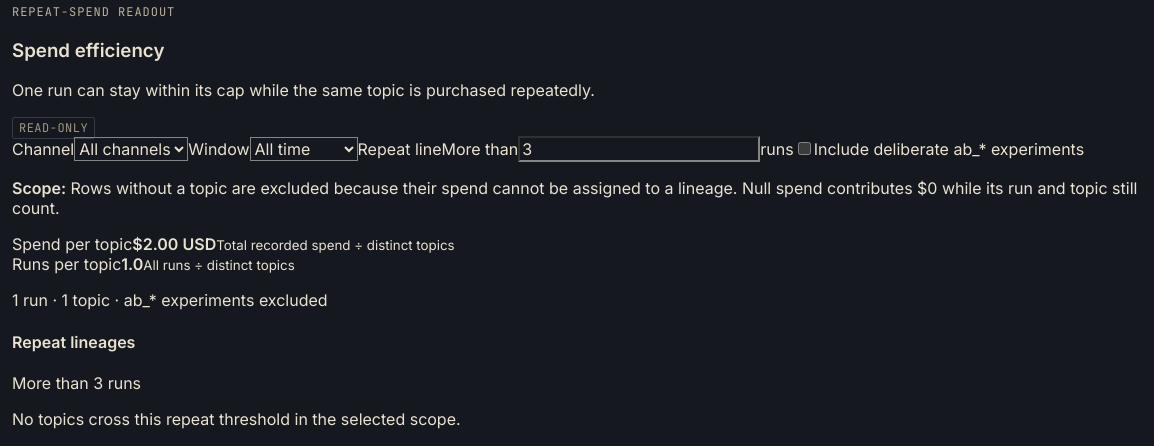
it: SpendEfficiencyReadout › snaps an out-of-range repeat threshold back to the committed value on blur
Replace the text in the number field named "Repeat-lineage run threshold" with "0" at (639, 149), box [518,136,760,162]
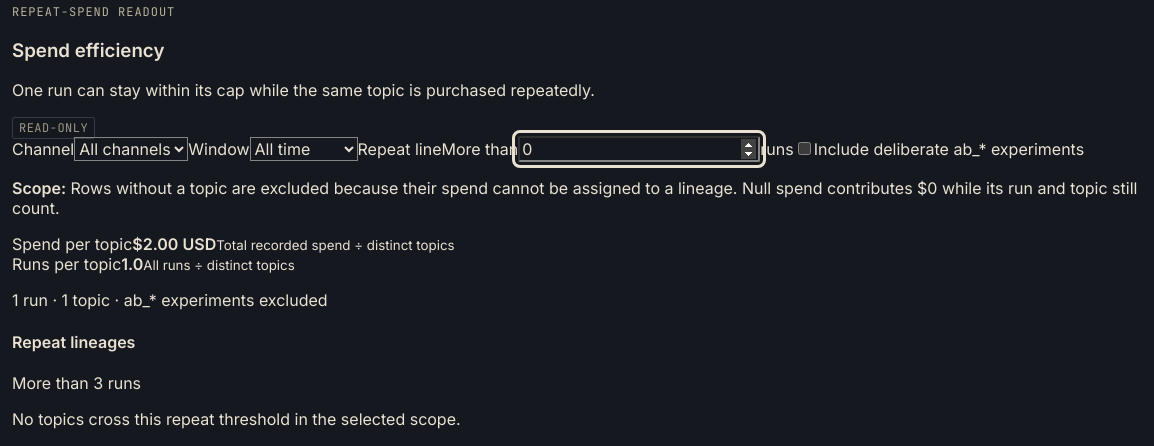
Press Tab
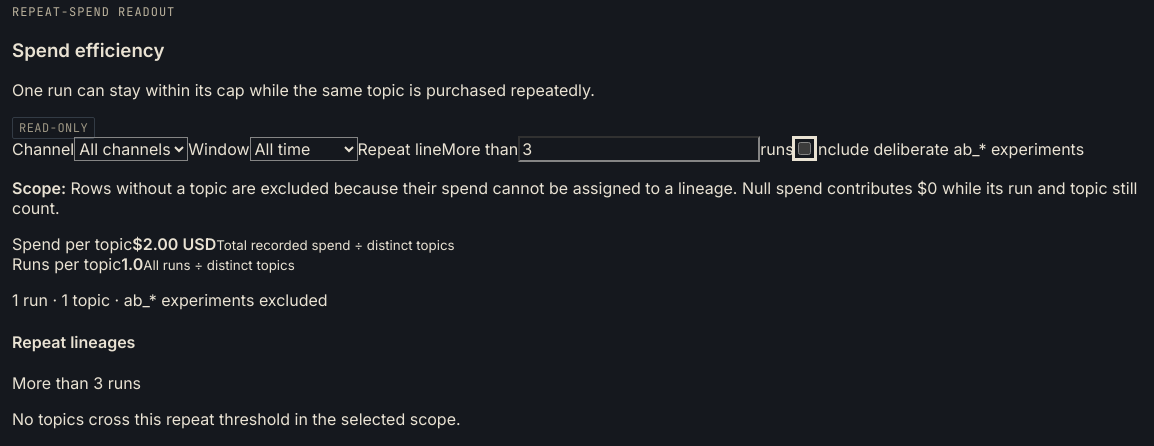
Expected: the text "More than 3 runs" is shown, [12,373,141,393]
Expected: the number field named "Repeat-lineage run threshold" holds "3", [518,136,760,162]
